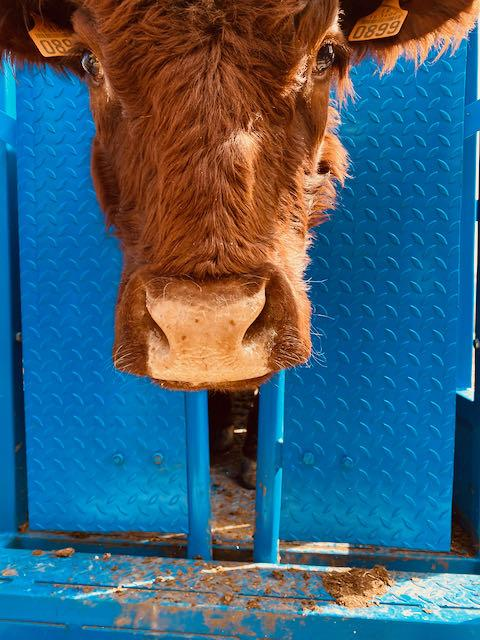muzzles: (102, 270, 322, 402)
